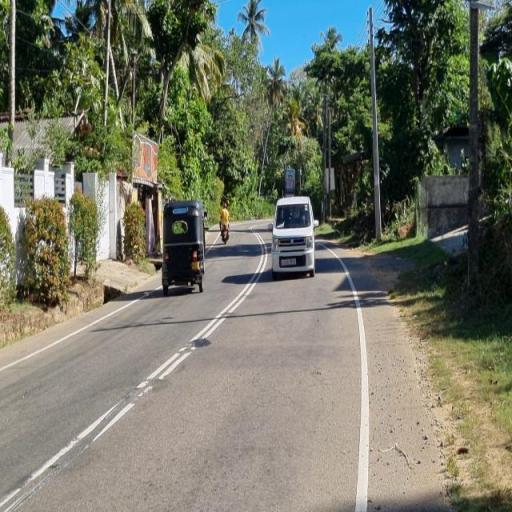double_white_line: (137, 230, 268, 397)
